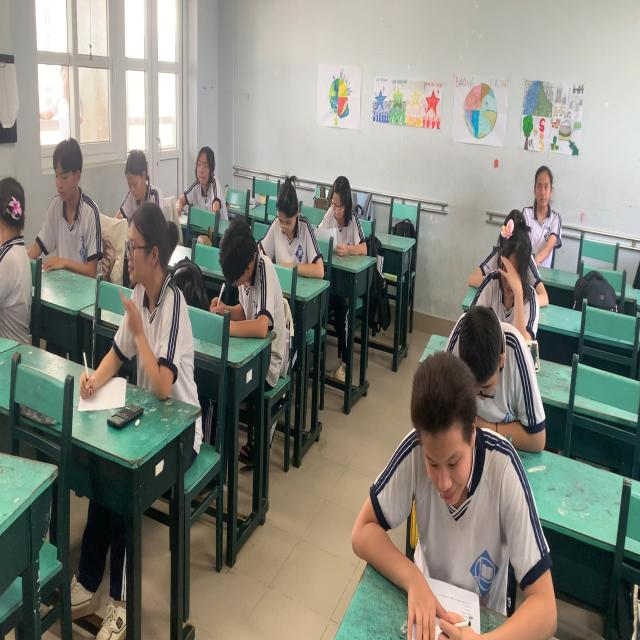cheating: (0, 162, 38, 366)
not_cheating: (402, 353, 519, 561), (105, 188, 196, 420), (41, 132, 102, 288), (446, 299, 527, 396), (219, 209, 278, 340), (272, 171, 330, 283), (118, 134, 170, 241), (320, 174, 368, 266), (524, 152, 566, 254), (489, 216, 529, 322), (192, 142, 232, 238)
